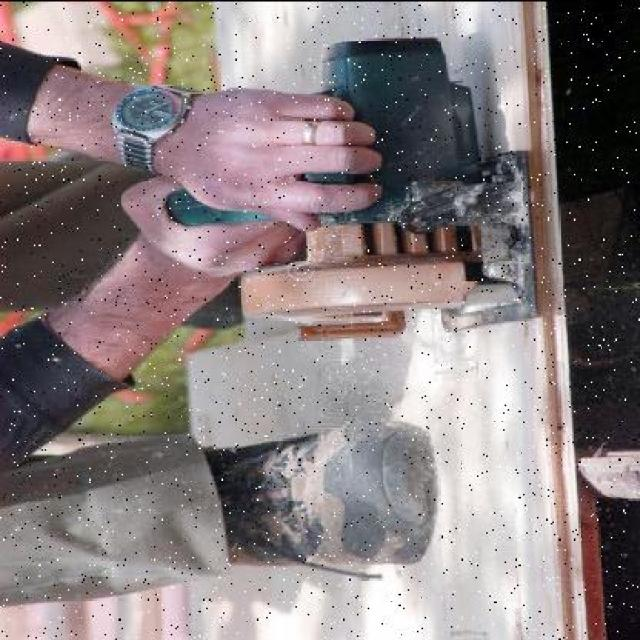shoes: (201, 412, 448, 577)
